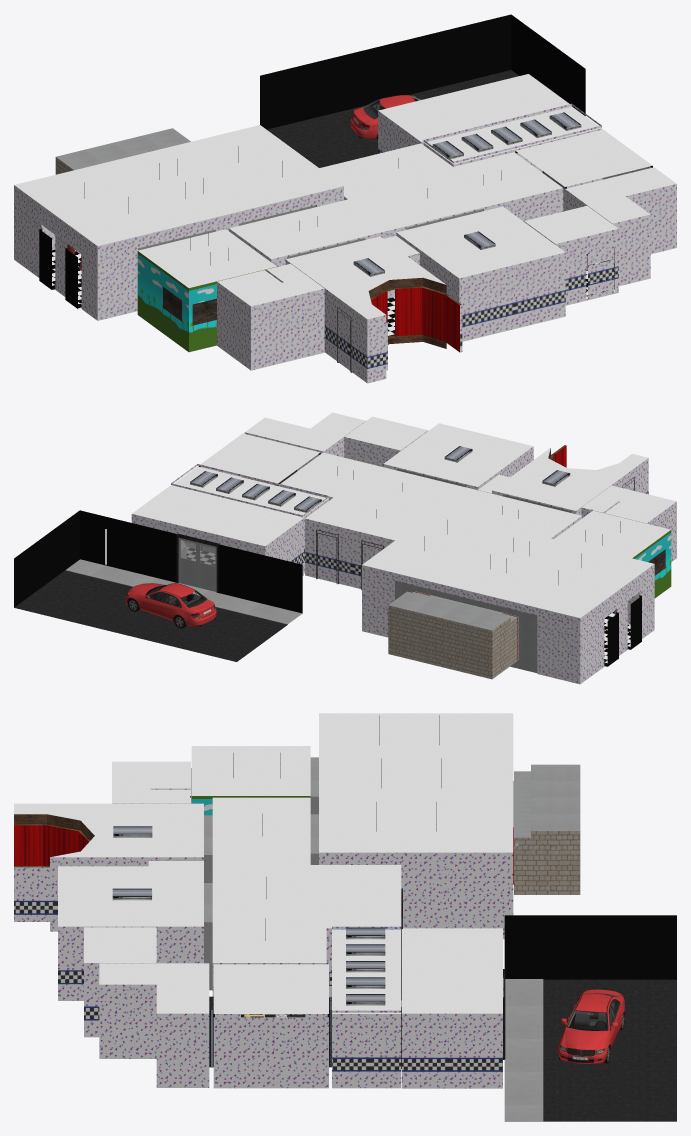
The model's file is fnac_1_map.glb.
3 views of the same model, one above another, from view 1: azimuth 30°, elevation 25°; view 2: azimuth 150°, elevation 25°; view 3: azimuth 270°, elevation 25° (orthographic). The views are drawn at different scales.
Parts seen in each view (by area): view 1: world_geometry, static_prop_0|sedan_ref.smd|Dupli|; view 2: world_geometry, static_prop_0|sedan_ref.smd|Dupli|; view 3: world_geometry, static_prop_0|sedan_ref.smd|Dupli|.
Part boxes in pixels (left/top/right/bottom): world_geometry: left=14, top=14, right=676, bottom=383; static_prop_0|sedan_ref.smd|Dupli|: left=350, top=95, right=423, bottom=139; world_geometry: left=14, top=412, right=676, bottom=684; static_prop_0|sedan_ref.smd|Dupli|: left=125, top=583, right=216, bottom=628; world_geometry: left=14, top=713, right=676, bottom=1121; static_prop_0|sedan_ref.smd|Dupli|: left=558, top=989, right=624, bottom=1064.
Size of what is drawn, in the model's own units: 23.76 by 3.68 by 20.61.
56 materials, 40 textured.
